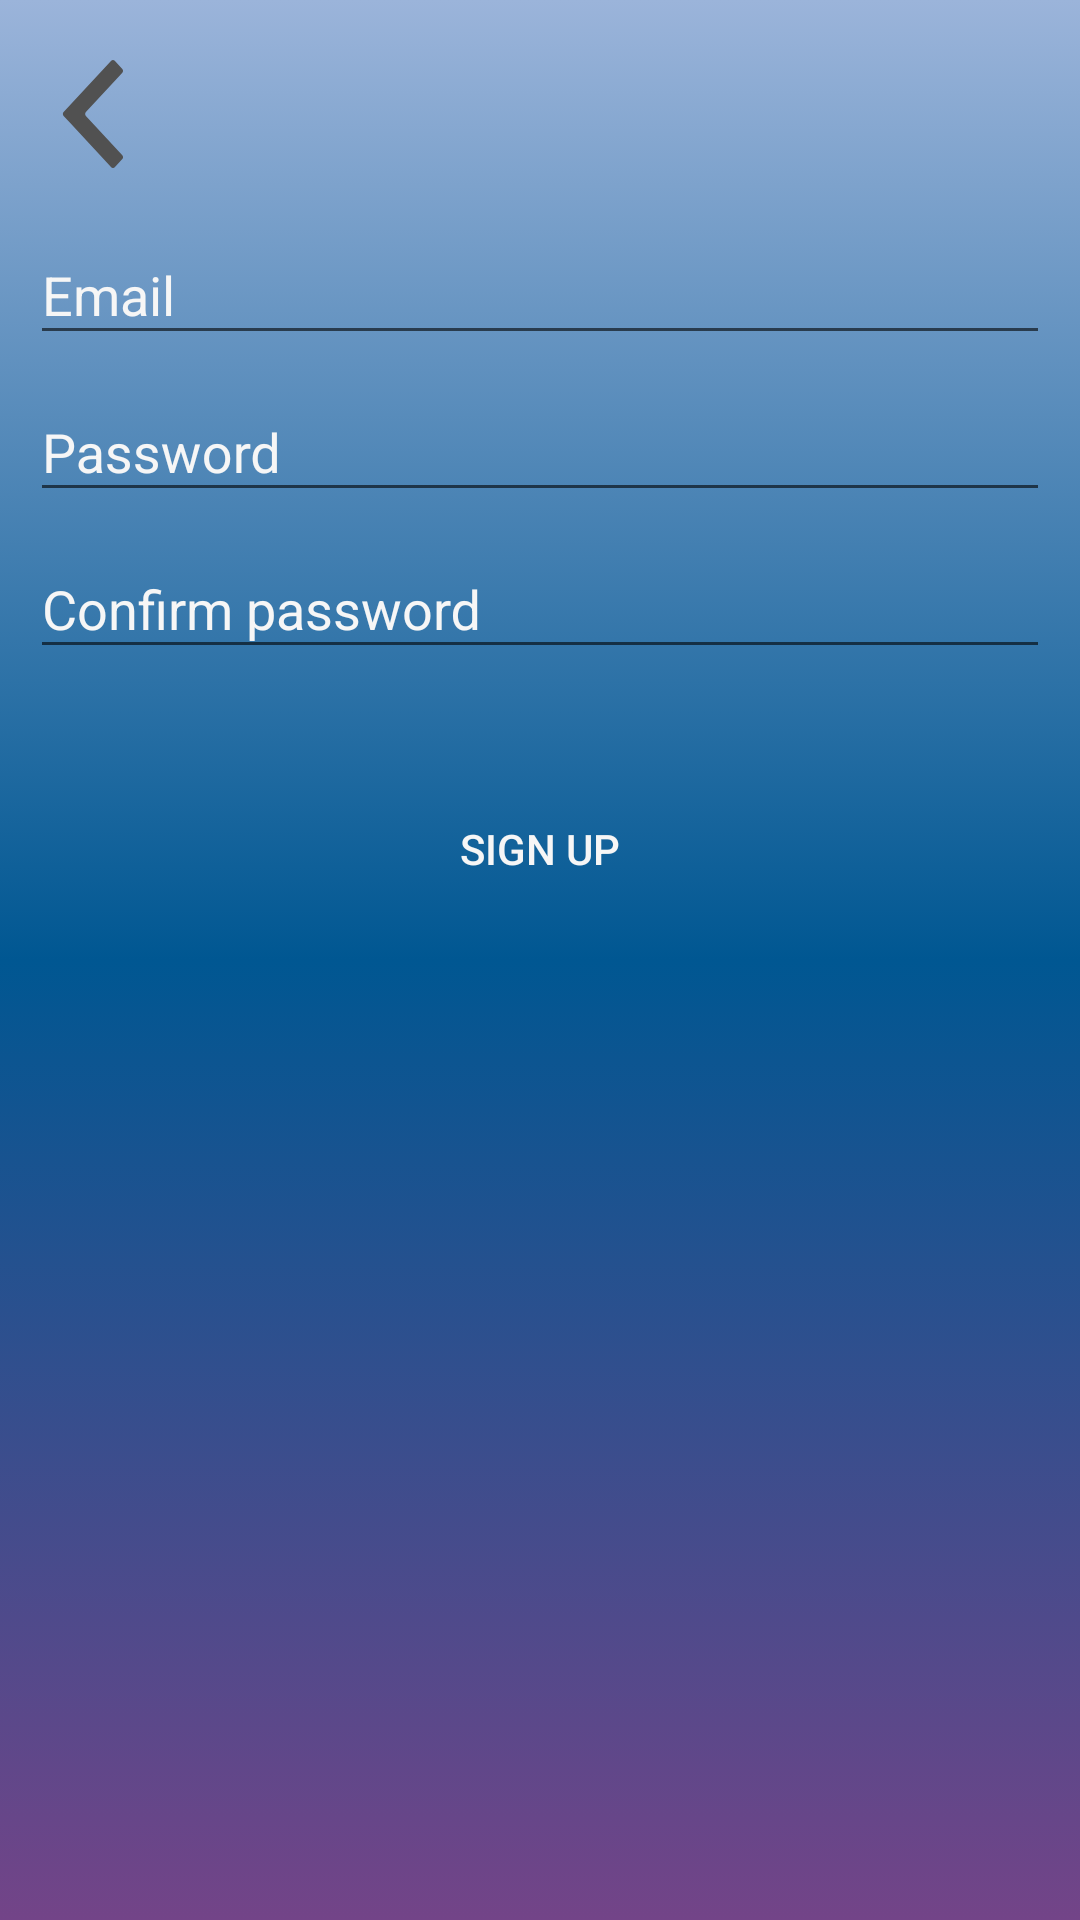

Named icons in this screenshot (1080 x 1920) and their centers, (x=x, y=y):
back: (x=93, y=114)
